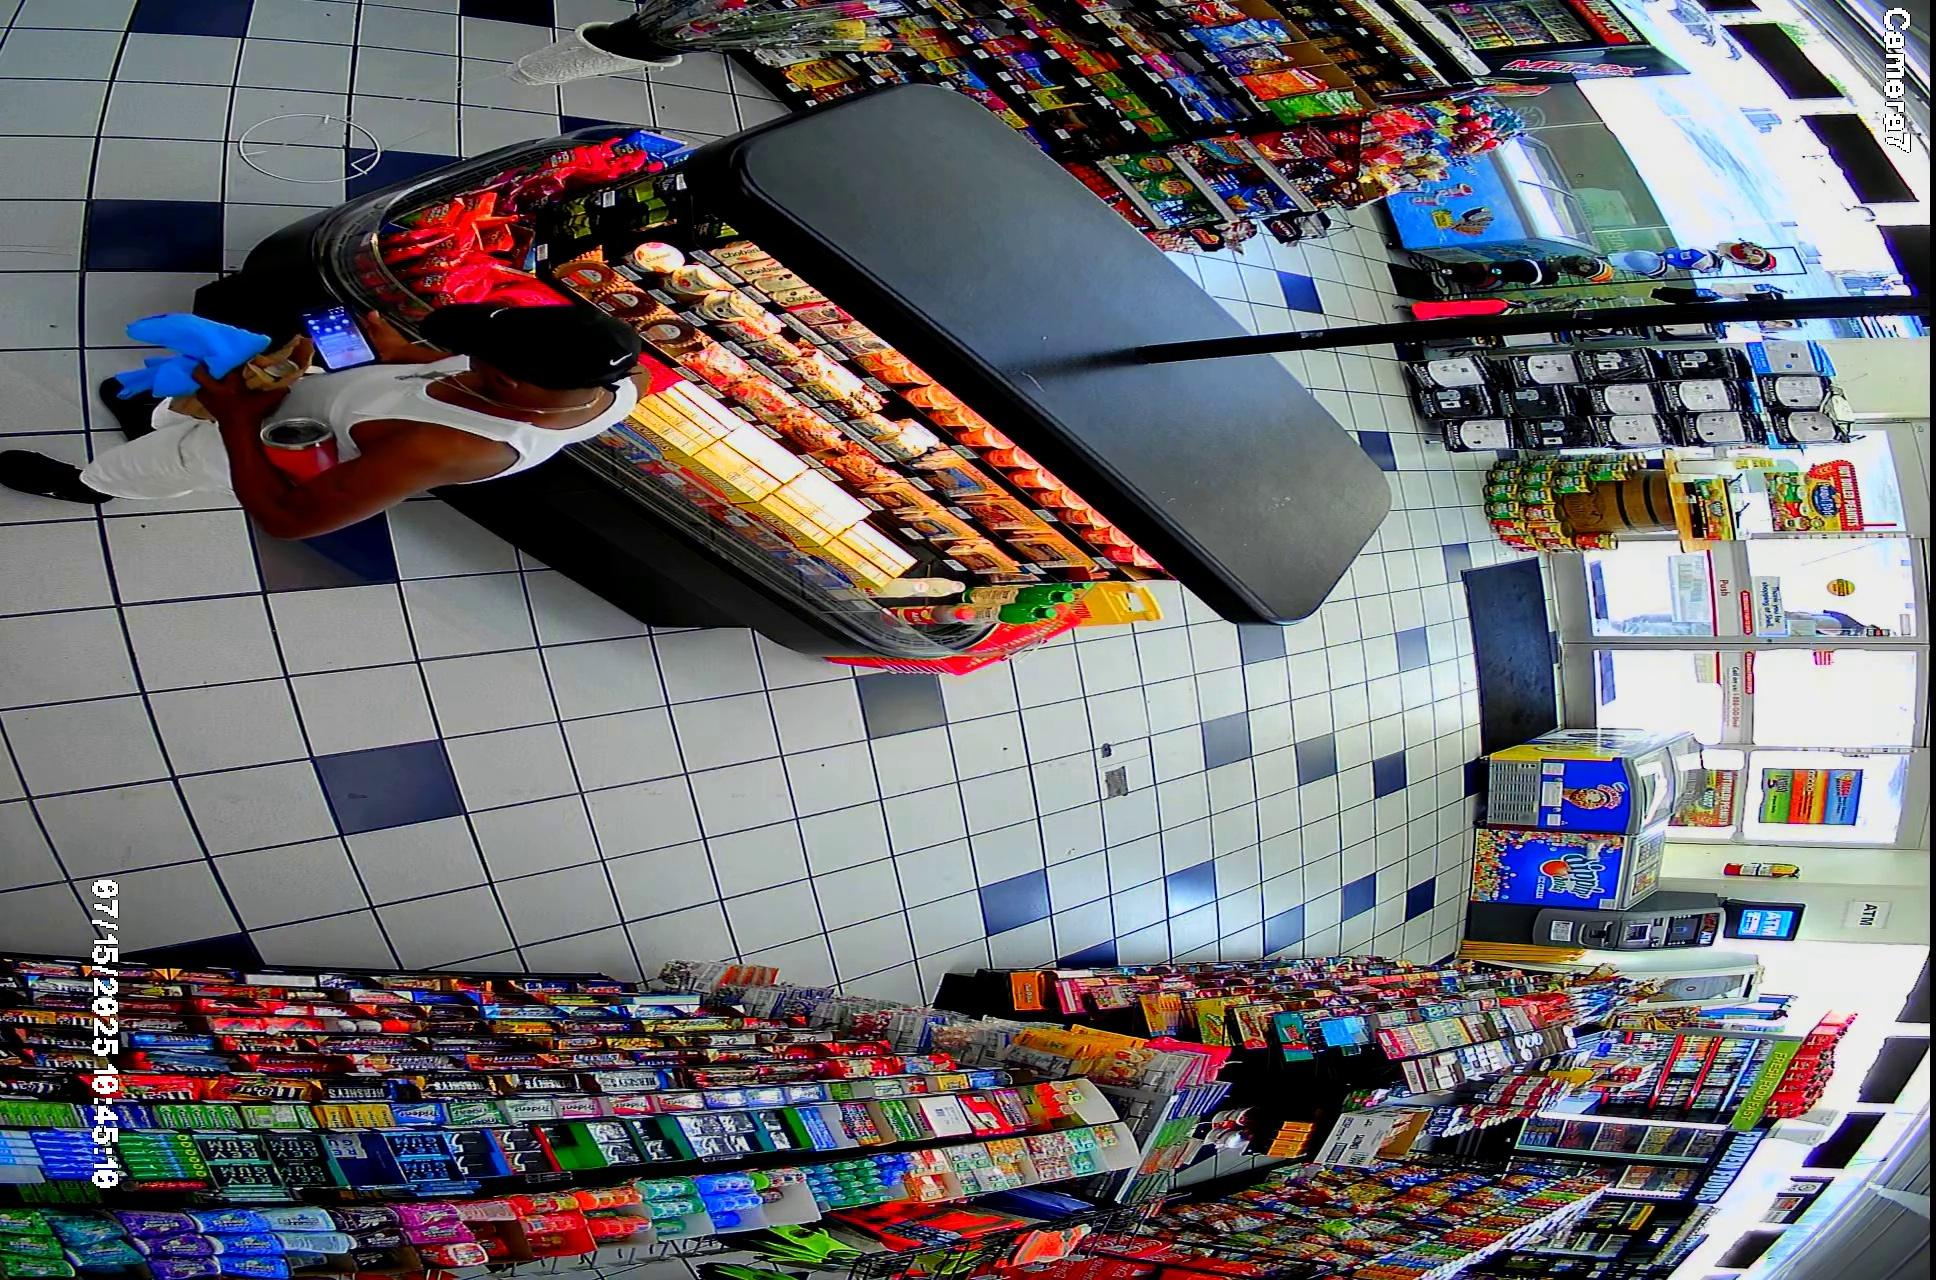phone: (293, 291, 383, 376)
